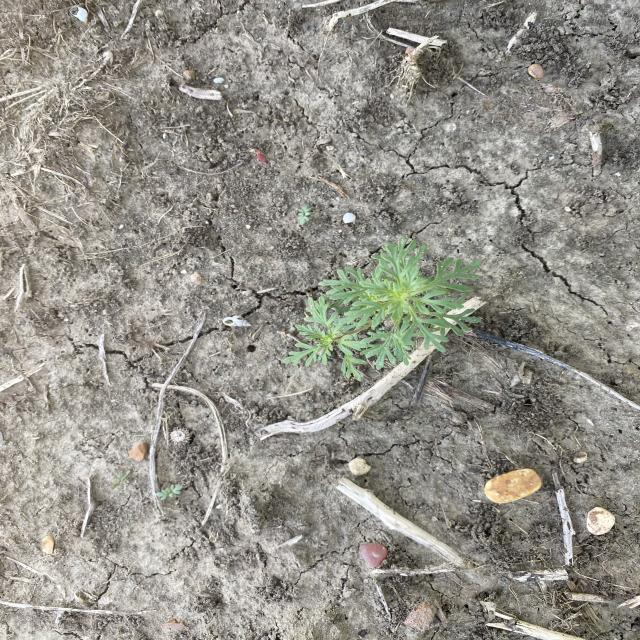Ragweed: (278, 235, 488, 382)
